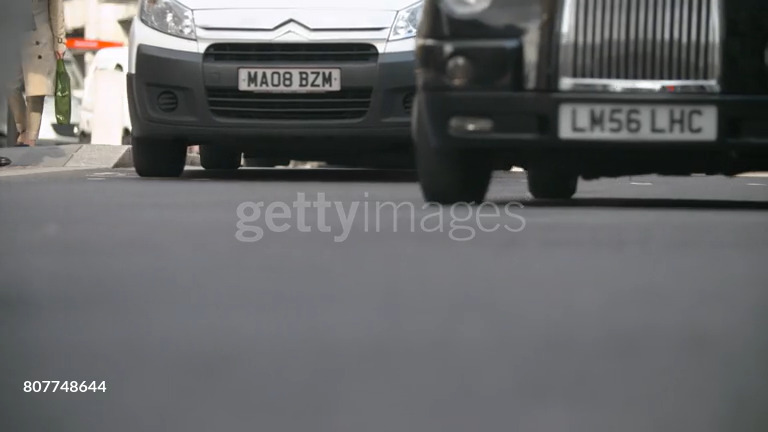car_number: (559, 104, 717, 140), (238, 68, 340, 91)
